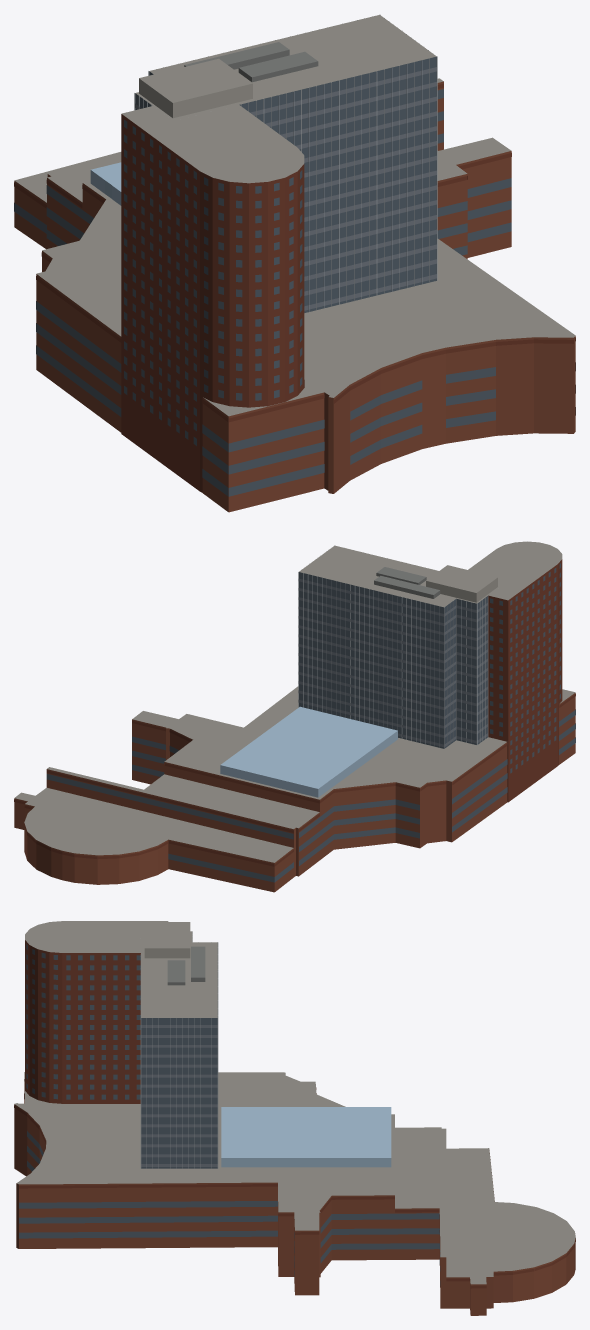
The model's file is excelsior-hotel.glb.
3 renders of one model, top to bottom at view 1: azimuth 30°, elevation 25°; view 2: azimuth 150°, elevation 25°; view 3: azimuth 270°, elevation 25°, orthographic. The views are drawn at different scales.
Parts seen in each view (by area): view 1: excelsior_hotel; view 2: excelsior_hotel; view 3: excelsior_hotel.
Boxes of the visible parts, bbox=[...] form: excelsior_hotel: bbox=[14, 14, 575, 512]; excelsior_hotel: bbox=[14, 541, 575, 892]; excelsior_hotel: bbox=[14, 921, 575, 1315].
Size of the model in its own units: 116 by 68.1 by 154.
